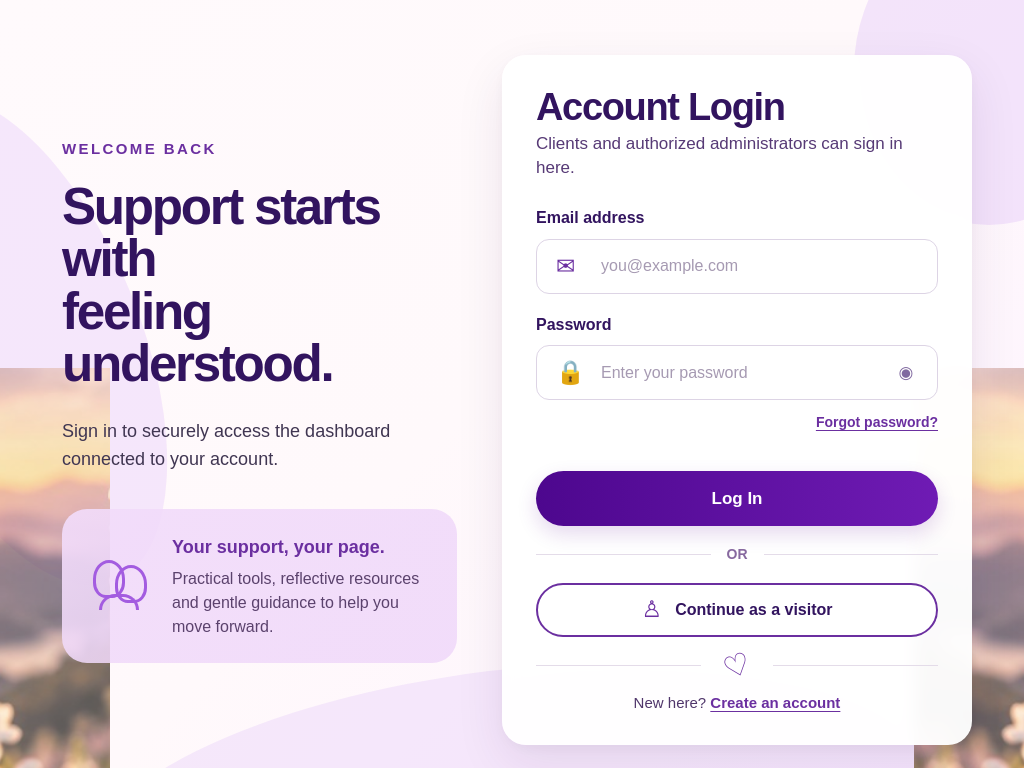
Test case: Admin Login page › shows error when admin credentials are wrong
Type "admin@test.com" into the field labelled "Email address" at (737, 266), box [536,239,938,294]
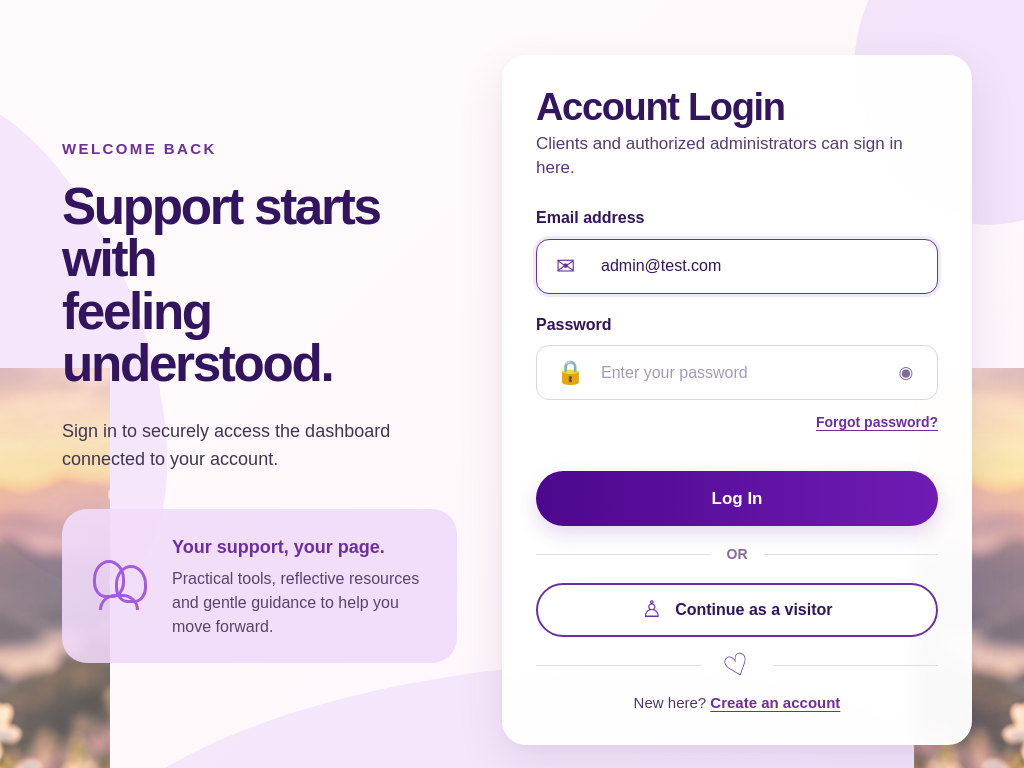
Type "wrong" into the password field labelled "Password" at (737, 373), box [536,345,938,400]
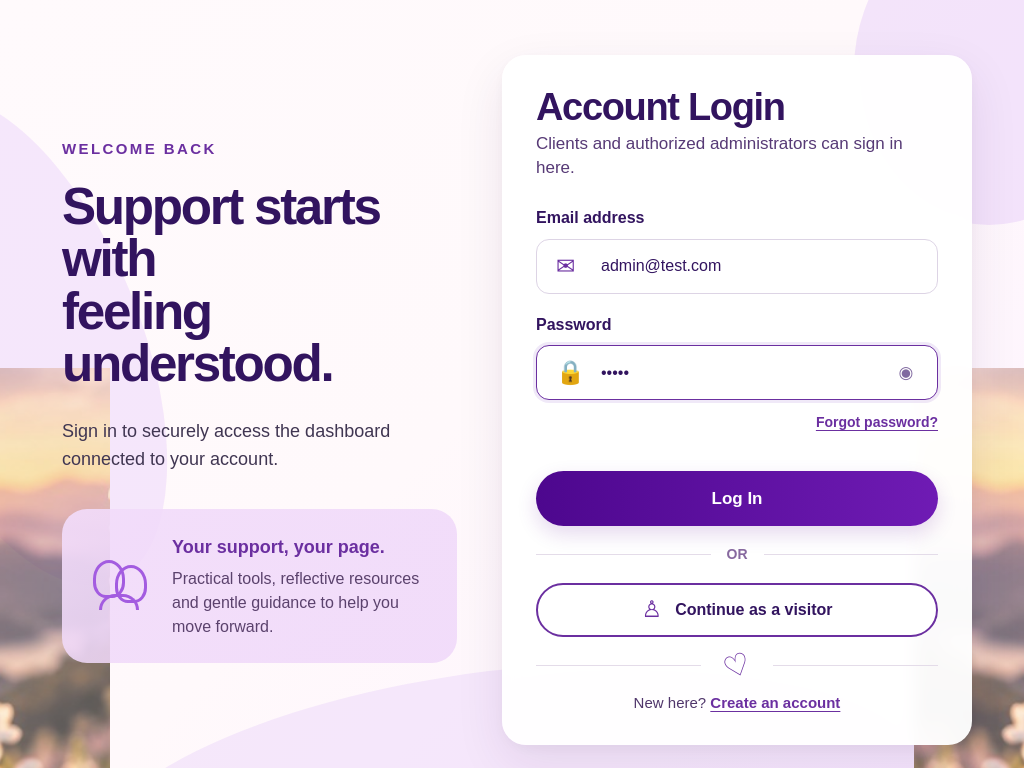
Click the button "Log In" at (737, 499), box [536,471,938,526]
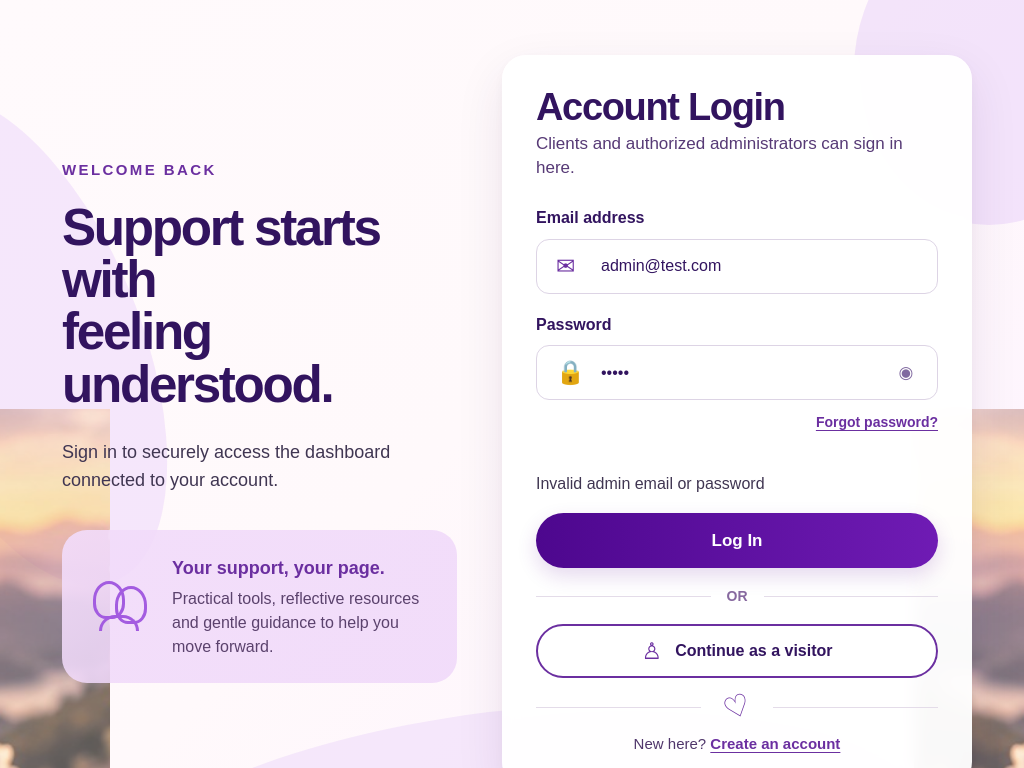
Result: the text "Invalid admin email or password" is shown at [536,475,764,492]
